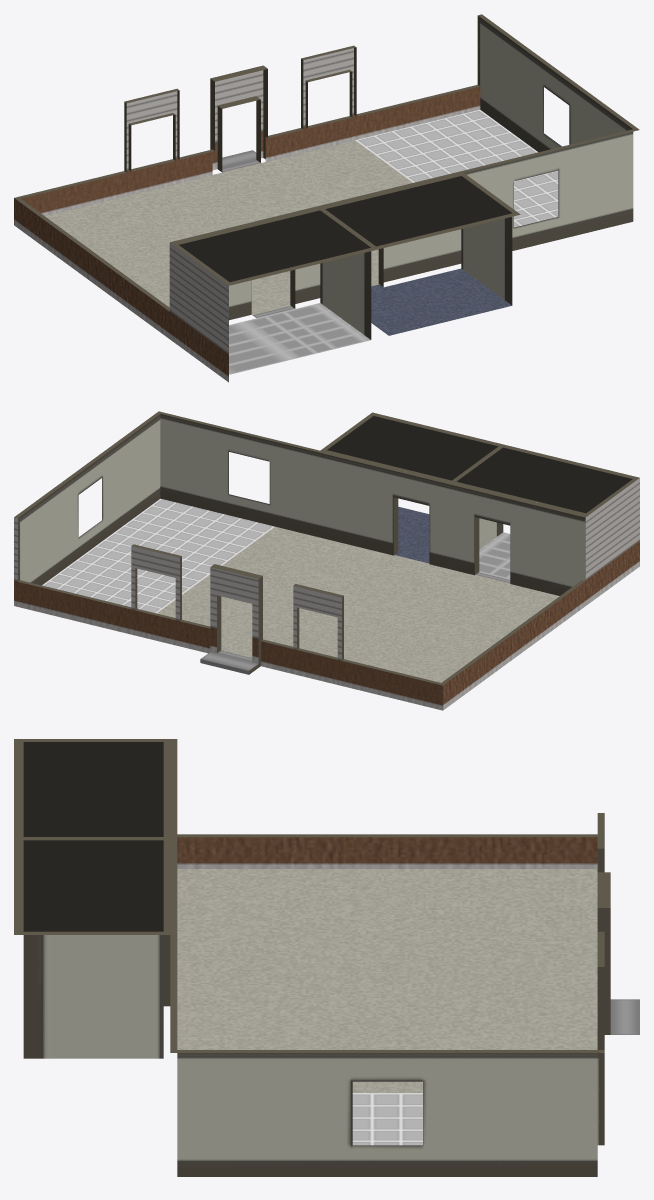
The model's file is HouseModel_Version2.fbx.
3 views of the same model, one above another, from view 1: azimuth 30°, elevation 25°; view 2: azimuth 150°, elevation 25°; view 3: azimuth 270°, elevation 25° (orthographic). The views are drawn at different scales.
Visible parts, largest first — view 1: Walls, Floor, Roof_Dark4; view 2: Walls, Floor, Roof_Dark4; view 3: Walls, Floor, Roof_Dark4.
Boxes of the visible parts, x1,y1,x2,y2 form: Walls: (14,14,639,382); Floor: (45,109,558,374); Roof_Dark4: (179,176,511,281); Walls: (14,411,639,710); Floor: (42,498,559,682); Roof_Dark4: (327,416,632,513); Walls: (14,739,610,1176); Floor: (177,869,639,1145); Roof_Dark4: (23,742,163,931).
Size of the model in its own units: 424 by 83.74 by 357.
